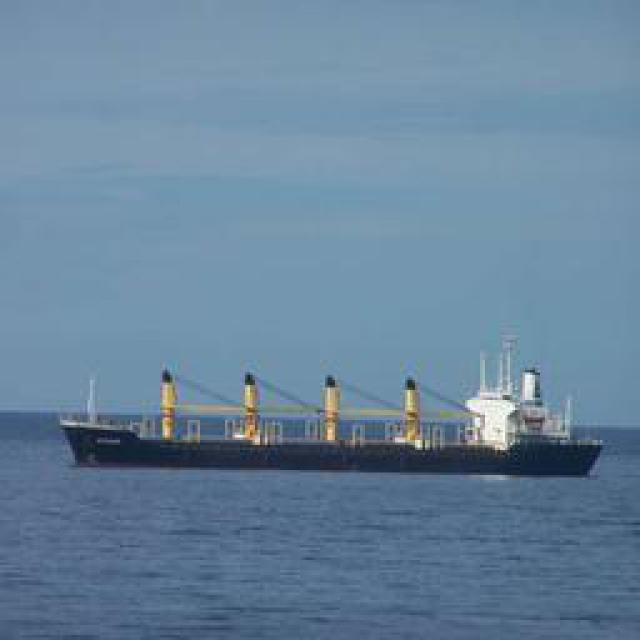Ship: (66, 366, 601, 474)
